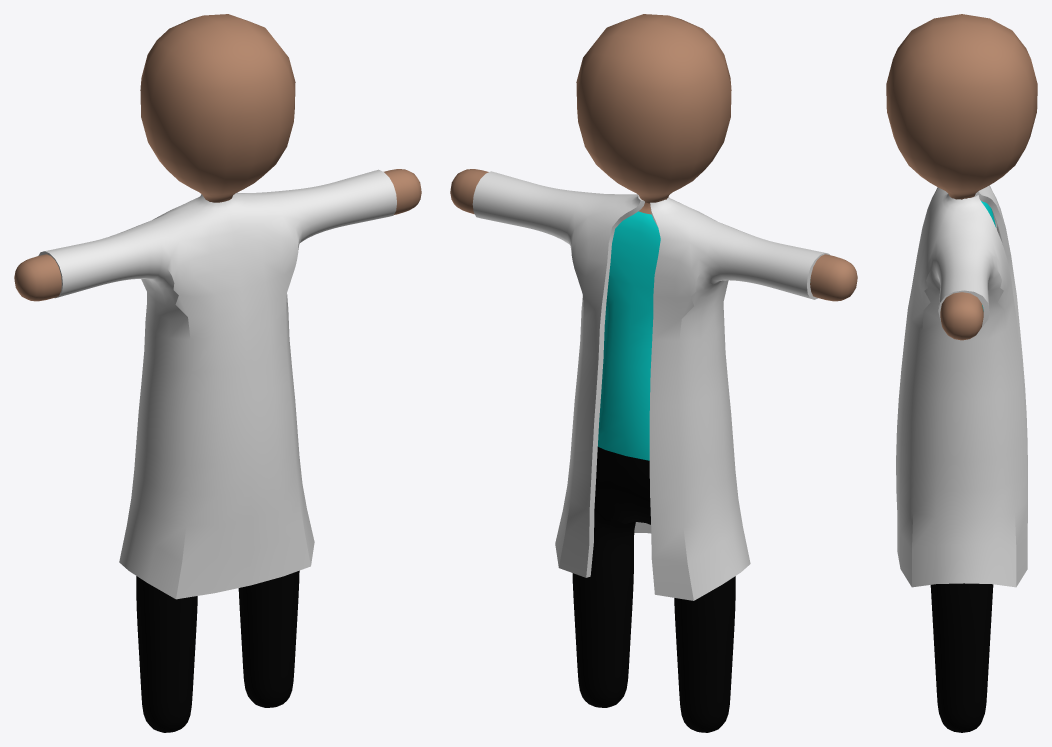
The model's file is Sciencetist.fbx.
3 renders of one model, left to right at view 1: azimuth 30°, elevation 25°; view 2: azimuth 150°, elevation 25°; view 3: azimuth 270°, elevation 25°, orthographic.
Visible parts, largest first — view 1: Sciencetist; view 2: Sciencetist; view 3: Sciencetist.
Part boxes in pixels (x1,y1,x2,y2): Sciencetist: (14, 14, 421, 732); Sciencetist: (450, 14, 857, 732); Sciencetist: (886, 14, 1037, 732).
Size of the model in its own units: 103 by 172 by 34.48.
